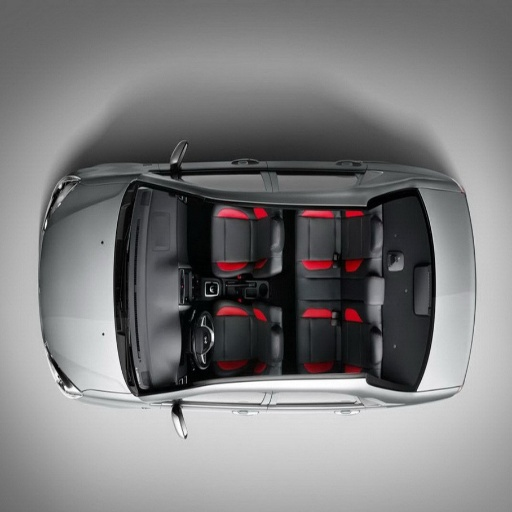tailgate: (438, 285, 472, 385), (389, 284, 424, 375)
trunk: (75, 446, 113, 484)
